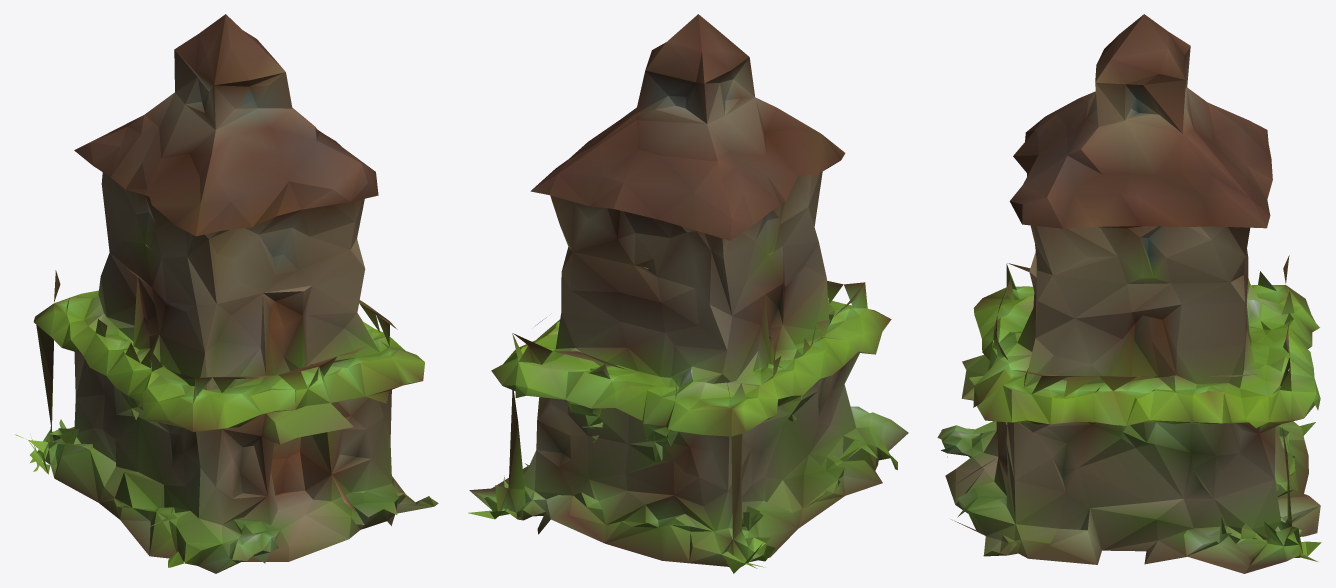
Rendered from bq_tower_house.vc2.glb.
3 views of the same model, side by side, from view 1: azimuth 30°, elevation 25°; view 2: azimuth 150°, elevation 25°; view 3: azimuth 270°, elevation 25° (orthographic). The views are drawn at different scales.
Visible parts, largest first — view 1: bq_tower_house; view 2: bq_tower_house; view 3: bq_tower_house.
Part boxes in pixels (bbox=[...]): bq_tower_house: bbox=[15, 14, 438, 573]; bq_tower_house: bbox=[468, 14, 908, 573]; bq_tower_house: bbox=[937, 14, 1321, 573].
Size of the model in its own units: 1.14 by 1.72 by 1.24.
